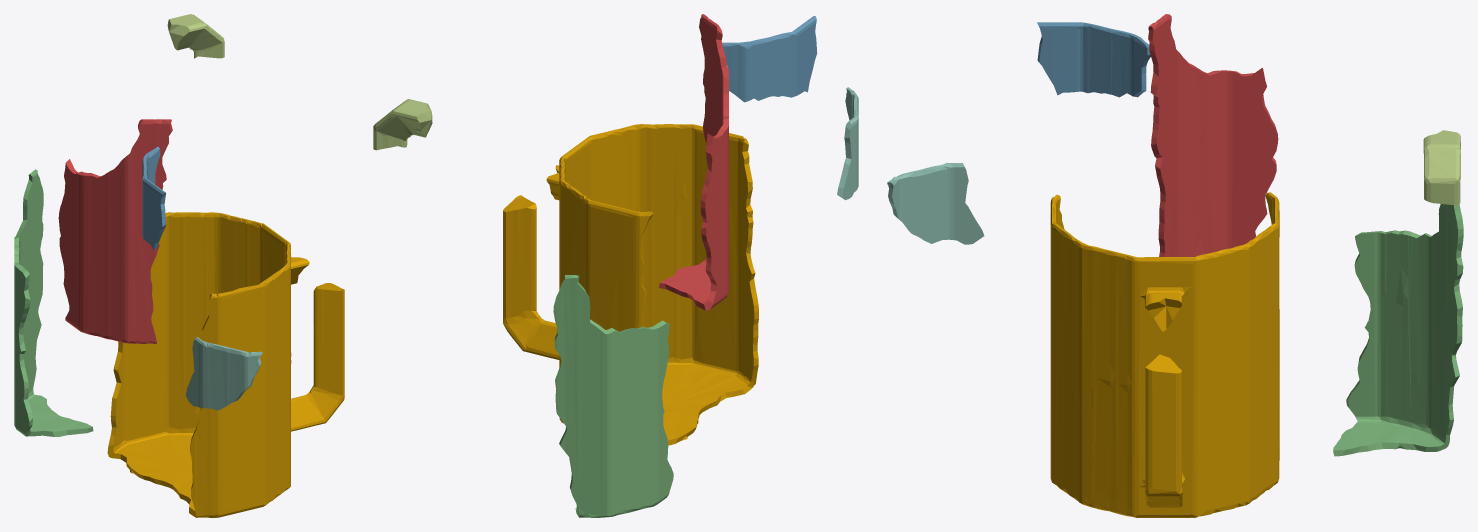
File: fractured_57_6pcs_transformed.glb
The picture shows the model from 3 angles, left to right: view 1: azimuth 30°, elevation 25°; view 2: azimuth 150°, elevation 25°; view 3: azimuth 270°, elevation 25°; orthographic projection. The views are drawn at different scales.
Parts seen in each view (by area): view 1: piece_0.obj, piece_1.obj, piece_3.obj, piece_4.obj, piece_2.obj, piece_5.obj; view 2: piece_0.obj, piece_3.obj, piece_1.obj, piece_2.obj, piece_5.obj, piece_4.obj; view 3: piece_0.obj, piece_3.obj, piece_1.obj, piece_2.obj, piece_4.obj, piece_5.obj.
Part boxes in pixels (bbox=[...]): piece_0.obj: bbox=[107, 212, 344, 517]; piece_1.obj: bbox=[58, 119, 172, 343]; piece_3.obj: bbox=[14, 169, 93, 436]; piece_4.obj: bbox=[185, 337, 262, 410]; piece_2.obj: bbox=[142, 146, 165, 250]; piece_5.obj: bbox=[167, 14, 224, 58]; piece_0.obj: bbox=[503, 124, 758, 445]; piece_3.obj: bbox=[553, 275, 673, 517]; piece_1.obj: bbox=[659, 14, 728, 310]; piece_2.obj: bbox=[722, 16, 817, 102]; piece_5.obj: bbox=[373, 99, 432, 150]; piece_4.obj: bbox=[837, 87, 858, 200]; piece_0.obj: bbox=[1050, 192, 1279, 517]; piece_3.obj: bbox=[1333, 204, 1463, 456]; piece_1.obj: bbox=[1148, 14, 1278, 256]; piece_2.obj: bbox=[1037, 22, 1150, 97]; piece_4.obj: bbox=[887, 163, 984, 244]; piece_5.obj: bbox=[1423, 130, 1460, 205].
Bounding box in the file's own units: 1 × 1.53 × 1.86.
